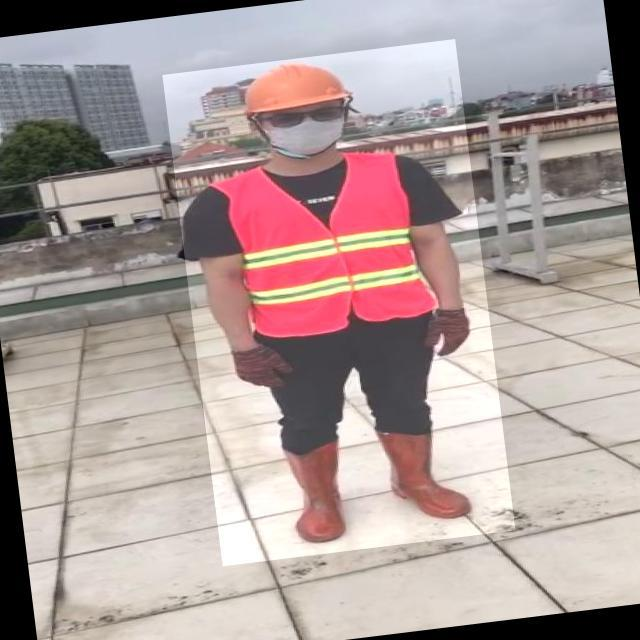Gloves: (232, 340, 296, 391), (420, 307, 475, 358)
Helmet: (236, 57, 351, 116)
Human: (162, 39, 515, 566)
Safety Boot: (375, 423, 475, 525), (279, 437, 353, 546)
Safety Vest: (218, 151, 441, 342)
